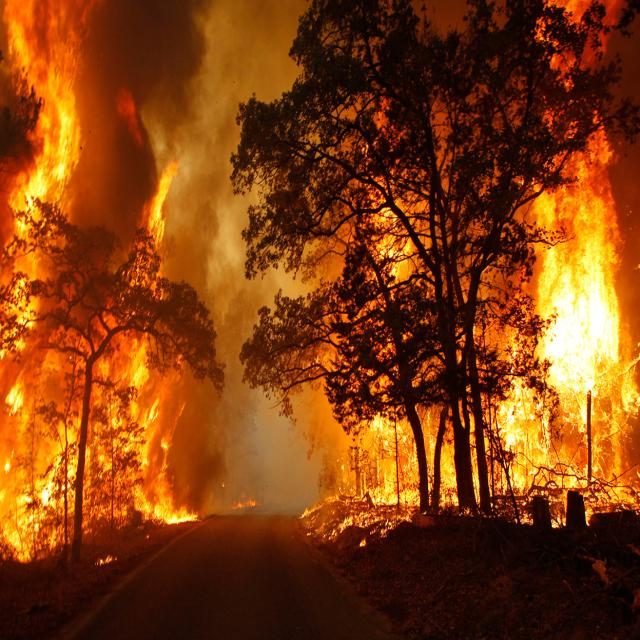Fire: (515, 3, 630, 391), (346, 402, 639, 520), (0, 16, 88, 284), (89, 288, 181, 525), (5, 427, 74, 569), (365, 174, 426, 306), (132, 152, 186, 292), (1, 285, 37, 371), (0, 376, 30, 418)
Smoke: (203, 0, 334, 529), (78, 0, 191, 256), (396, 7, 517, 127)
